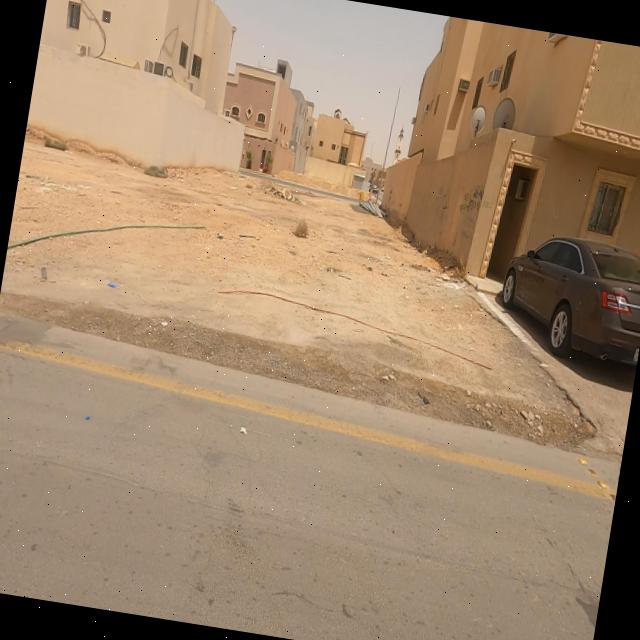Graffiti: (454, 183, 485, 251)
